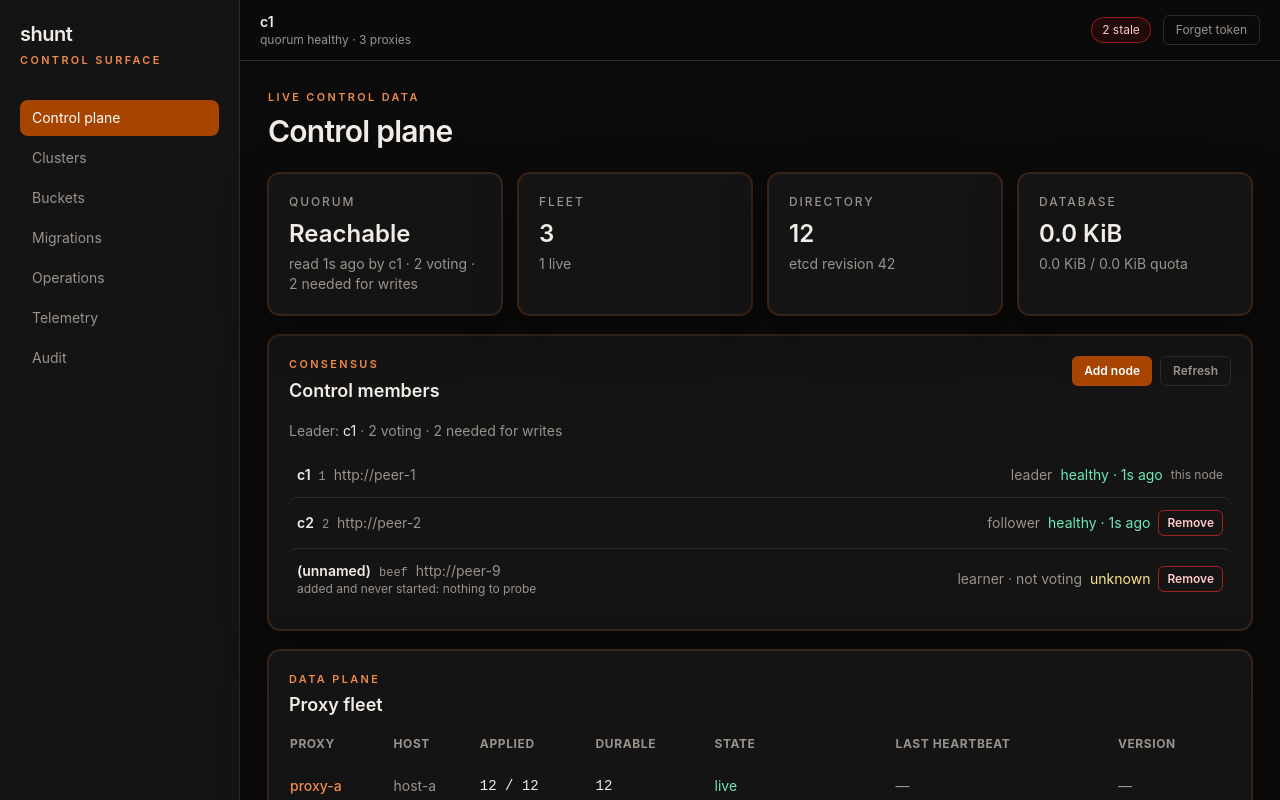
Test: removes an unnamed learner by its ID after a dry run, and never offers to remove this node
The image size is (1280, 800).
expect the heading "Control members" is shown: met, box [289,377,440,405]
expect the text "this node" is shown: met, box [1171,467,1223,483]
Click the button with aria-label "Remove member beef" at point(1191, 579), box [1158,566,1223,592]
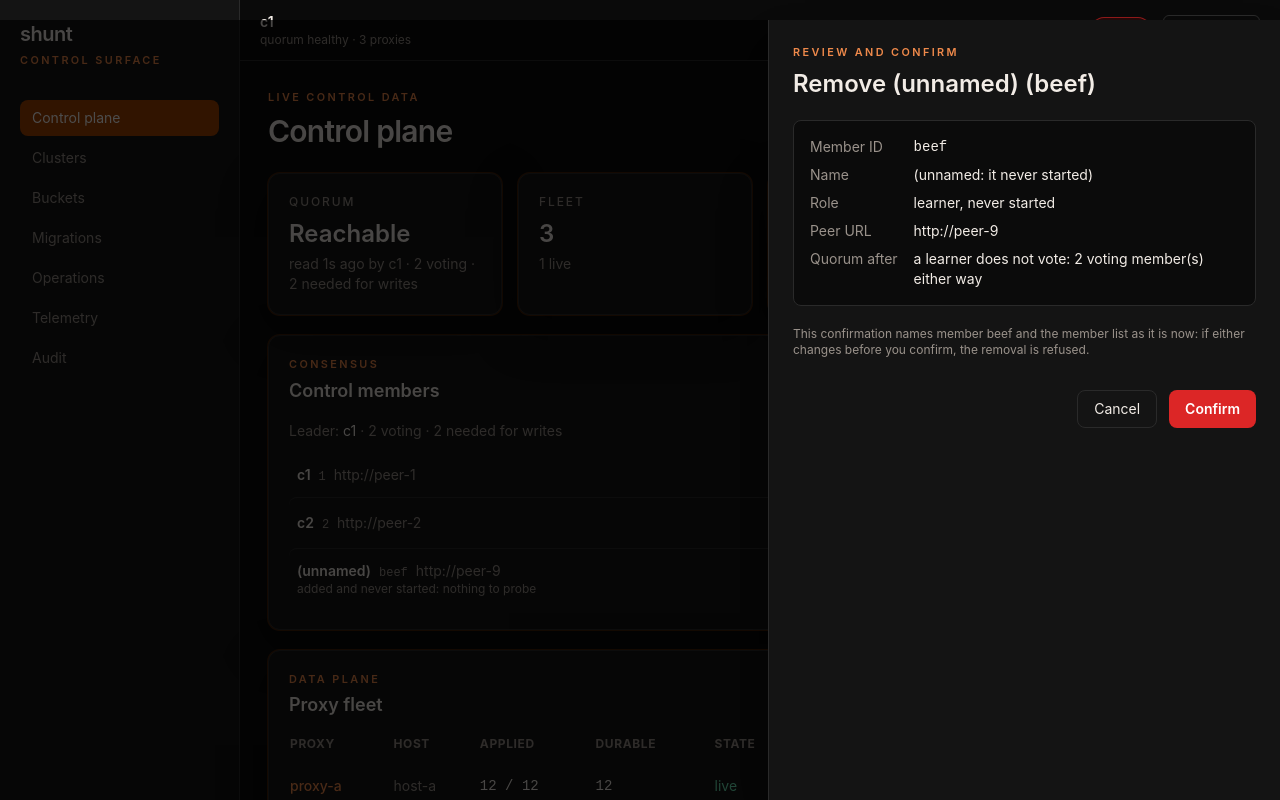
expect the heading "Remove (unnamed) (beef)" is shown: met, box [793,69,1096,98]
expect the text "a learner does not vote: 2 voting member(s) either way" is shown: met, box [914,249,1239,289]
expect the text "names member beef and the member list as it is now" is shown: met, box [793,326,1256,358]
Click the button "Confirm" at point(1213, 409), box [1169,390,1256,428]
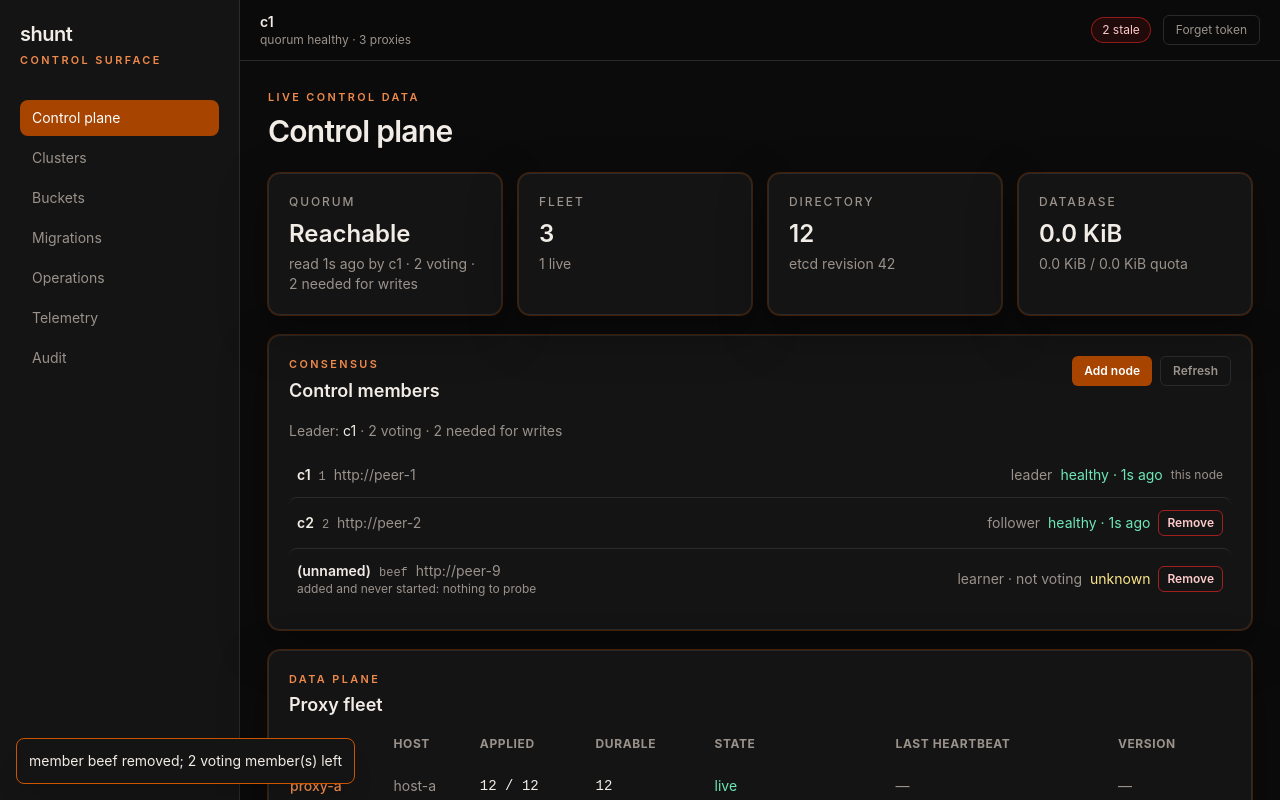
expect the button "member beef removed; 2 voting member(s) left" is shown: met, box [16,738,355,784]
